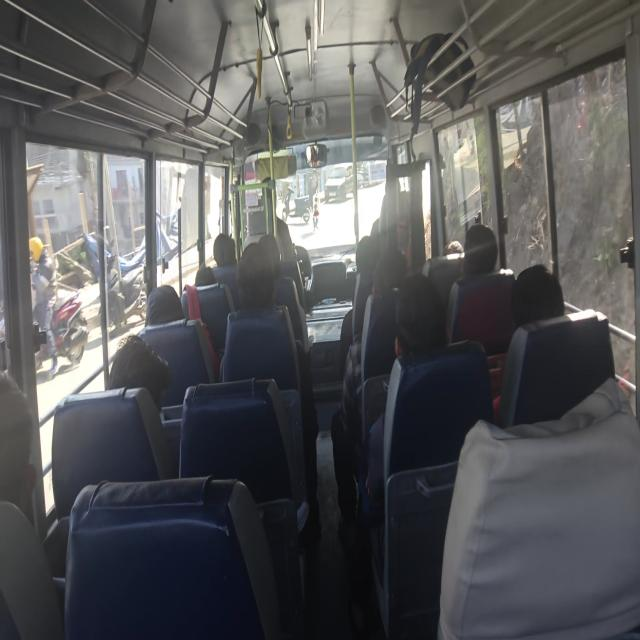person: (437, 376, 639, 638), (219, 241, 319, 529), (364, 273, 448, 502), (492, 263, 565, 422), (0, 368, 37, 521), (107, 333, 171, 412), (28, 235, 58, 374), (511, 263, 565, 329), (144, 284, 184, 326), (212, 232, 236, 267), (443, 240, 464, 256)
